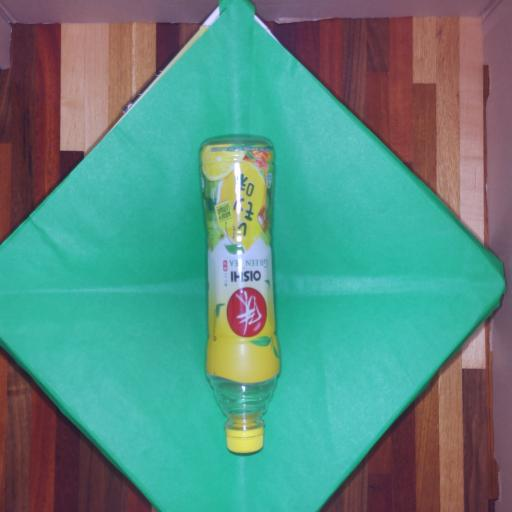bottle: (191, 127, 290, 463)
